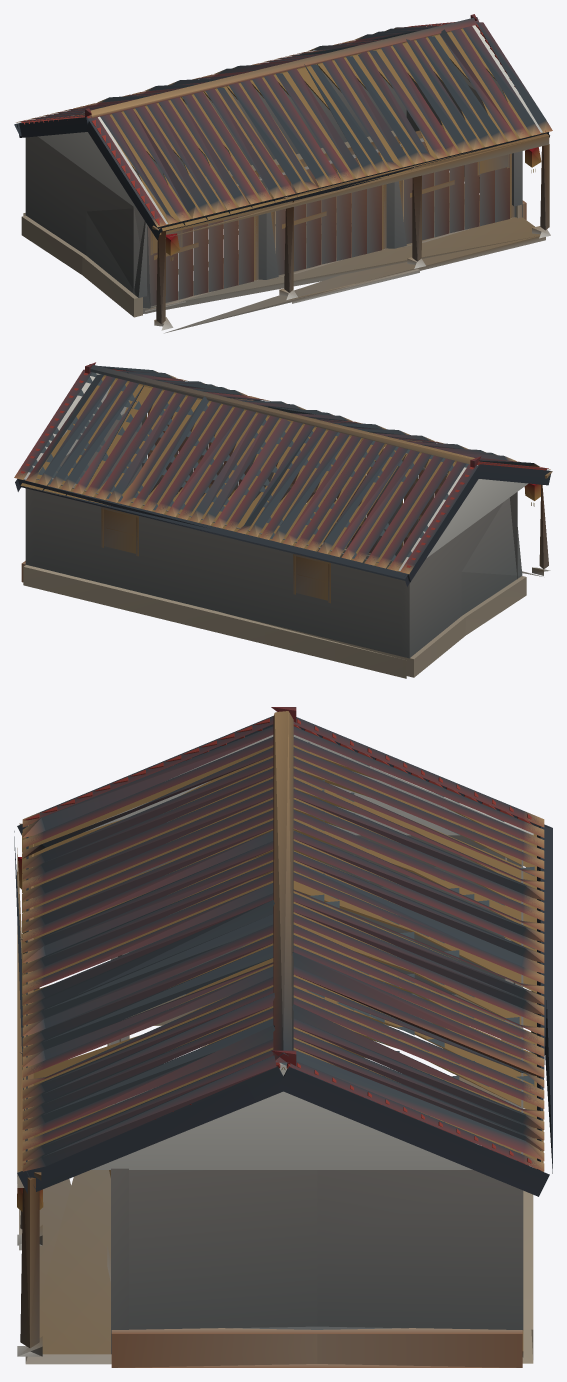
The model's file is lib_lib_house_a1.vc2.glb.
3 views of the same model, one above another, from view 1: azimuth 30°, elevation 25°; view 2: azimuth 150°, elevation 25°; view 3: azimuth 270°, elevation 25° (orthographic). The views are drawn at different scales.
Parts seen in each view (by area): view 1: lib_lib_house_a1; view 2: lib_lib_house_a1; view 3: lib_lib_house_a1.
Boxes of the visible parts, left/top/right/bottom form: lib_lib_house_a1: left=14, top=14, right=552, bottom=333; lib_lib_house_a1: left=14, top=362, right=552, bottom=678; lib_lib_house_a1: left=14, top=707, right=552, bottom=1367.
Bounding box in the file's own units: 11.12 × 4.6 × 7.19.
